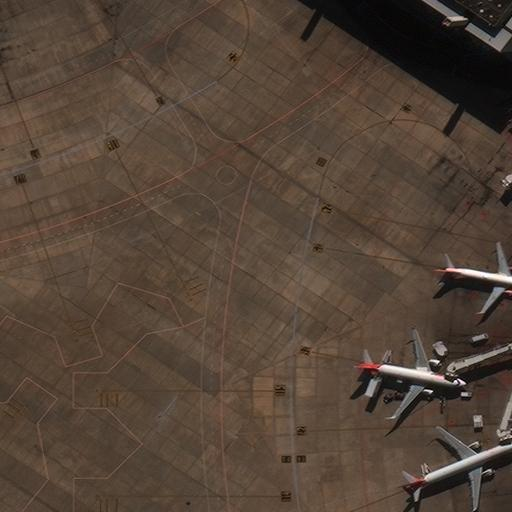Medium Civil Transport: (356, 329, 466, 419), (406, 426, 512, 506), (439, 249, 512, 310)
